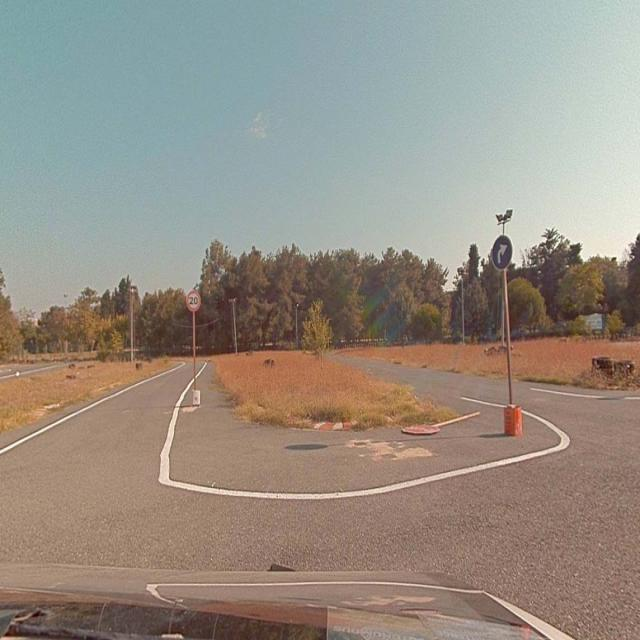20: (187, 289, 200, 311)
sag: (493, 238, 512, 268)
